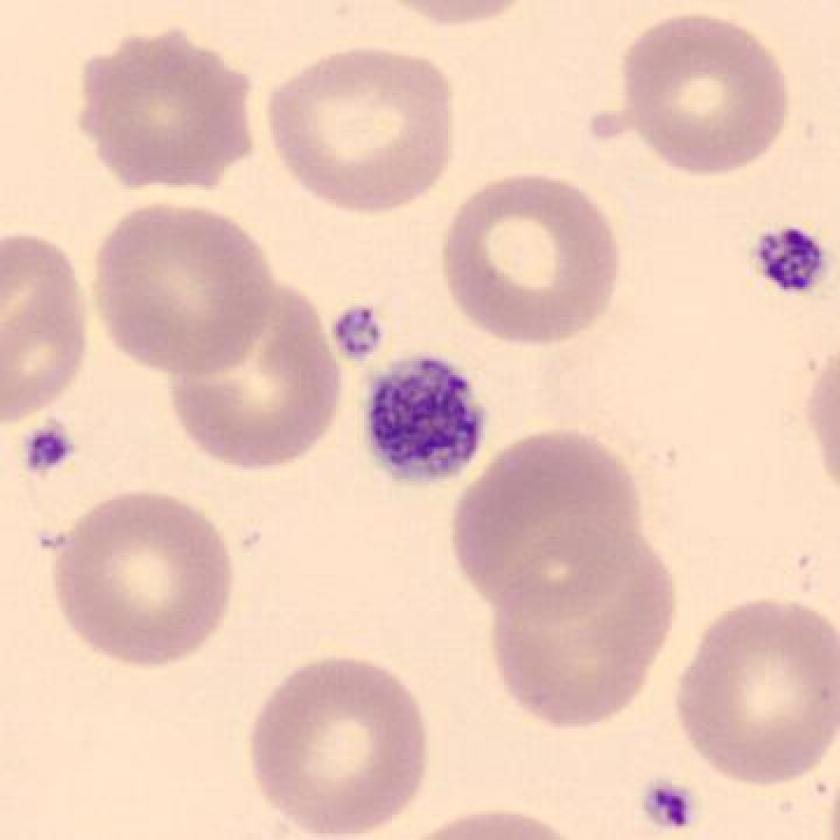platelets: (361, 351, 494, 492), (748, 219, 832, 311), (633, 769, 713, 840), (328, 297, 393, 367), (20, 418, 80, 492)
